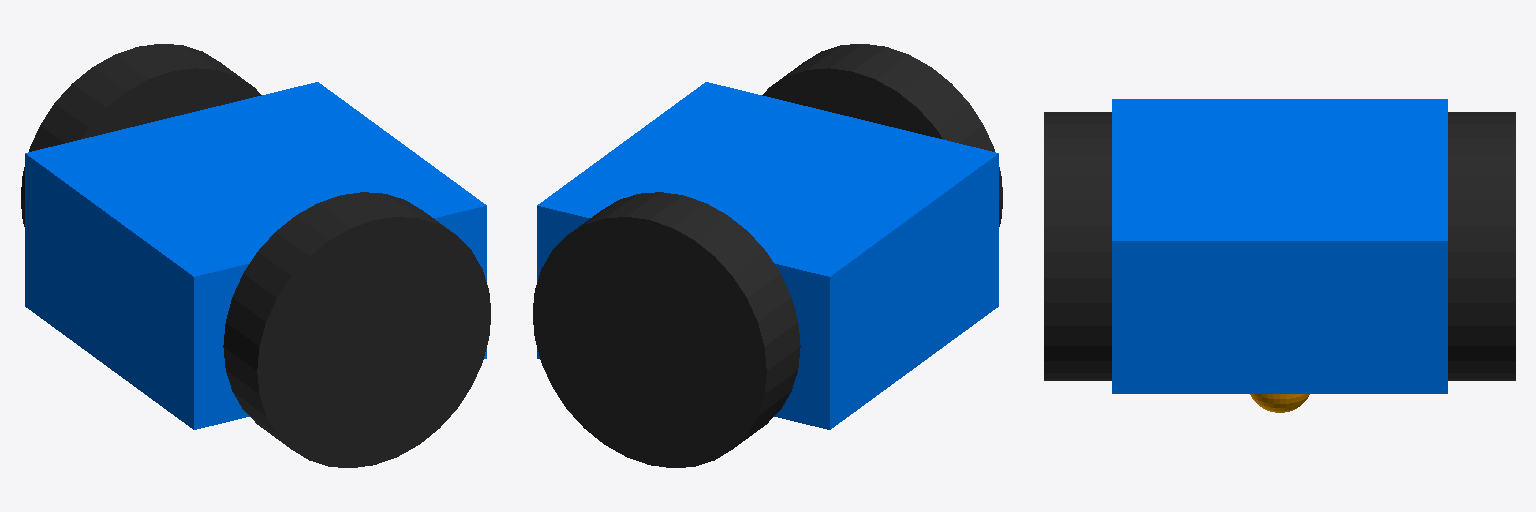
robot.urdf — marrtinox:
<?xml version='1.0'?>
<robot name="marrtinox">

  <!-- Base Link -->
  <link name="base_link">
    <visual>
      <origin xyz="0 0 0" rpy="0 0 0" />
      <geometry>
          <box size="0.5 0.5 0.25"/>
      </geometry>
      <material name="blue">
        <color rgba="0 0.5 1 1"/>
      </material>
    </visual>
    <!-- Base collision, mass and inertia -->
    <collision>
      <origin xyz="0 0 0" rpy="0 0 0" />
      <geometry>
          <box size="0.5 0.5 0.25"/>
      </geometry>
    </collision>
    <inertial>
      <mass value="5"/>
      <inertia ixx="0.13" ixy="0.0" ixz="0.0" iyy="0.21" iyz="0.0" izz="0.13"/>
    </inertial>

    <!-- Caster -->
    <visual name="caster">
      <origin xyz="0.2 0 -0.125" rpy="0 0 0" />
      <geometry>
        <sphere radius="0.05" />
      </geometry>
    </visual>
    <!-- Caster collision, mass and inertia -->
    <collision>
      <origin xyz="0.2 0 -0.125" rpy="0 0 0" />
      <geometry>
        <sphere radius="0.05" />
      </geometry>
    </collision>
    <inertial>
      <mass value="0.5"/>
      <inertia ixx="0.0001" ixy="0.0" ixz="0.0" iyy="0.0001" iyz="0.0" izz="0.0001"/>
    </inertial>

  </link>

  <!-- Right Wheel -->
  <link name="right_wheel">
    <visual>
      <origin xyz="0 0 0" rpy="1.570795 0 0" />
      <geometry>
          <cylinder length="0.1" radius="0.2" />
      </geometry>
      <material name="darkgray">
        <color rgba=".2 .2 .2 1"/>
      </material>
    </visual>
    <!-- Right Wheel collision, mass and inertia -->
    <collision>
      <origin xyz="0 0 0" rpy="1.570795 0 0" />
      <geometry>
          <cylinder length="0.1" radius="0.2" />
      </geometry>
    </collision>
    <inertial>
      <mass value="0.5"/>
      <inertia ixx="0.01" ixy="0.0" ixz="0.0" iyy="0.005" iyz="0.0" izz="0.005"/>
    </inertial>

  </link>

  <!-- Right Wheel joint -->
  <joint name="joint_right_wheel" type="continuous">
    <parent link="base_link"/>
    <child link="right_wheel"/>
    <origin xyz="0 -0.30 0" rpy="0 0 0" /> 
    <axis xyz="0 1 0" />
  </joint>

  <!-- Left Wheel -->
  <link name="left_wheel">
    <visual>
      <origin xyz="0 0 0" rpy="1.570795 0 0" />
      <geometry>
          <cylinder length="0.1" radius="0.2" />
      </geometry>
      <material name="darkgray">
        <color rgba=".2 .2 .2 1"/>
      </material>
    </visual>
    <!-- Left Wheel collision, mass and inertia -->
    <collision>
      <origin xyz="0 0 0" rpy="1.570795 0 0" />
      <geometry>
          <cylinder length="0.1" radius="0.2" />
      </geometry>
    </collision>
    <inertial>
      <mass value="0.5"/>
      <inertia ixx="0.01" ixy="0.0" ixz="0.0" iyy="0.005" iyz="0.0" izz="0.005"/>
    </inertial>
  </link>

  <!-- Left Wheel joint -->
  <joint name="joint_left_wheel" type="continuous">
    <parent link="base_link"/>
    <child link="left_wheel"/>
    <origin xyz="0 0.30 0" rpy="0 0 0" /> 
    <axis xyz="0 1 0" />
  </joint>

</robot>

--- Facts derived from the render (not from the file) ---
Views: 3 orthographic renders of the robot side by side, from view 1: azimuth 30°, elevation 25°; view 2: azimuth 150°, elevation 25°; view 3: azimuth 270°, elevation 25°.
Model marrtinox with 3 links and 2 joints (2 continuous), rooted at base_link, posed all joints at 0.
Links seen in each view (by area): view 1: base_link, right_wheel, left_wheel; view 2: base_link, left_wheel, right_wheel; view 3: base_link, right_wheel, left_wheel.
Link boxes in pixels (bbox=[...]): base_link: bbox=[25, 82, 486, 429]; right_wheel: bbox=[223, 192, 490, 467]; left_wheel: bbox=[21, 44, 261, 226]; base_link: bbox=[537, 82, 998, 429]; left_wheel: bbox=[533, 192, 800, 467]; right_wheel: bbox=[762, 44, 1002, 226]; base_link: bbox=[1112, 99, 1447, 412]; right_wheel: bbox=[1044, 112, 1111, 380]; left_wheel: bbox=[1448, 112, 1515, 380].
Bounding box of the posed robot: 0.5 × 0.7 × 0.4 m (x, y, z).
Geometry: primitives only (box / cylinder / sphere), no mesh files.
